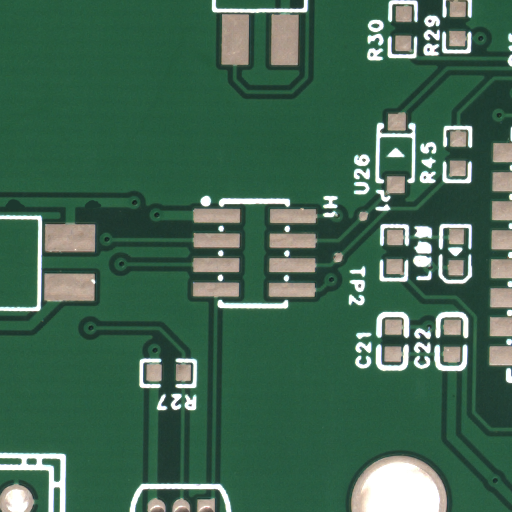Mouse_bite: (15, 204, 36, 215), (91, 203, 109, 213)
